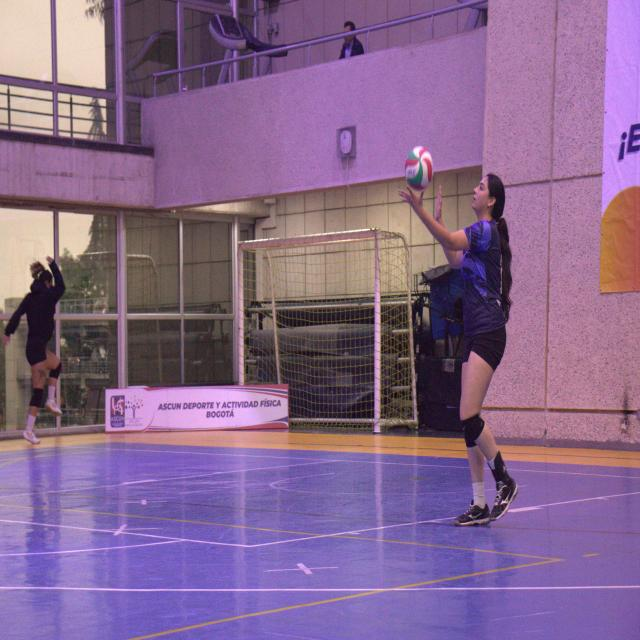volleyball: (405, 146, 434, 192)
